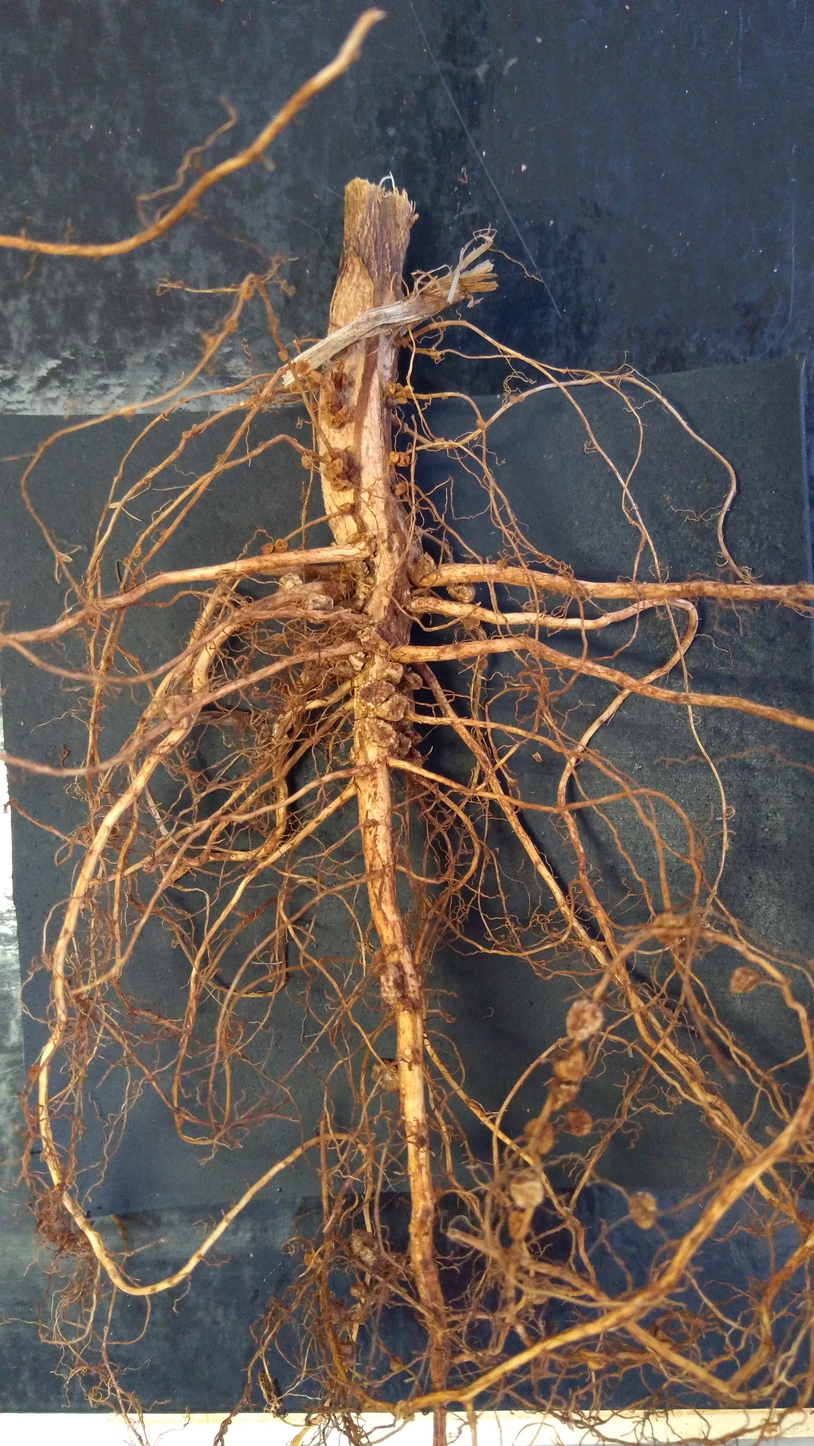nodule: (721, 963, 771, 1002), (507, 1166, 550, 1209), (564, 998, 606, 1042), (355, 619, 400, 658), (523, 1115, 559, 1158), (627, 1188, 663, 1231), (373, 962, 407, 1007), (369, 1059, 409, 1096), (550, 1047, 588, 1084), (652, 910, 689, 948), (162, 692, 196, 730), (348, 1231, 380, 1270), (547, 1080, 583, 1113), (357, 679, 395, 709), (564, 1107, 596, 1141), (302, 591, 333, 626), (407, 550, 439, 583), (375, 694, 409, 723), (444, 580, 479, 608), (504, 1210, 532, 1240), (371, 721, 397, 748), (377, 660, 405, 685), (321, 445, 350, 467), (321, 457, 346, 482), (344, 558, 371, 579), (276, 572, 306, 590), (402, 671, 423, 693), (385, 1352, 407, 1373), (301, 1249, 324, 1269), (395, 734, 412, 761), (320, 410, 344, 429), (458, 614, 482, 633), (347, 652, 367, 673), (298, 451, 316, 474), (334, 403, 354, 423), (334, 1340, 354, 1360), (406, 746, 424, 768), (390, 1396, 407, 1419), (347, 1282, 368, 1300), (327, 478, 352, 493), (402, 729, 424, 746), (393, 451, 411, 470), (260, 540, 276, 558), (393, 481, 410, 497), (273, 537, 290, 553), (295, 359, 311, 376), (473, 656, 489, 672), (27, 1064, 42, 1080), (225, 319, 239, 333), (400, 383, 415, 396), (206, 335, 218, 351), (336, 502, 355, 512), (341, 371, 351, 388), (496, 558, 509, 571), (384, 381, 396, 395), (277, 348, 289, 361), (336, 359, 349, 371), (397, 395, 410, 406), (389, 450, 400, 462), (475, 419, 487, 430), (394, 381, 403, 391)
